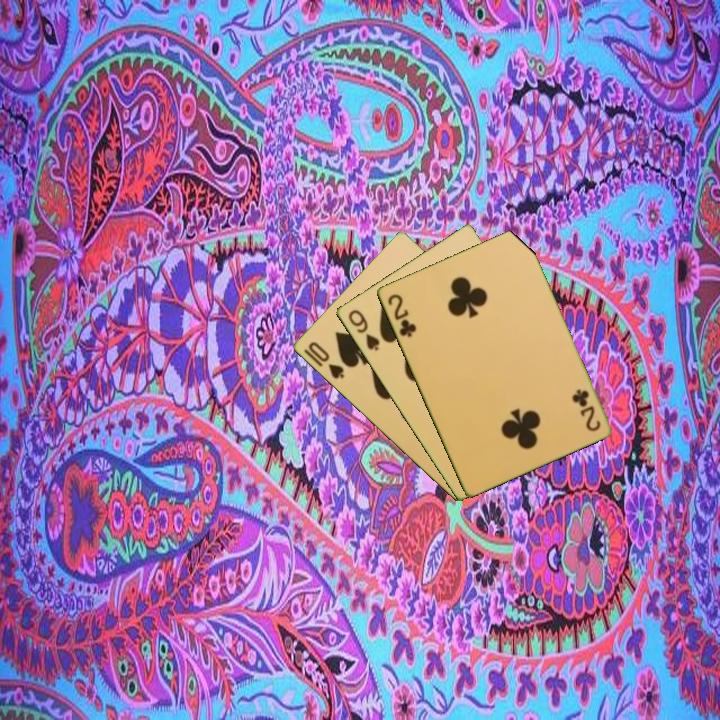10s: (304, 338, 347, 382)
2c: (383, 290, 419, 340), (569, 385, 603, 434)
9s: (344, 306, 382, 354)
